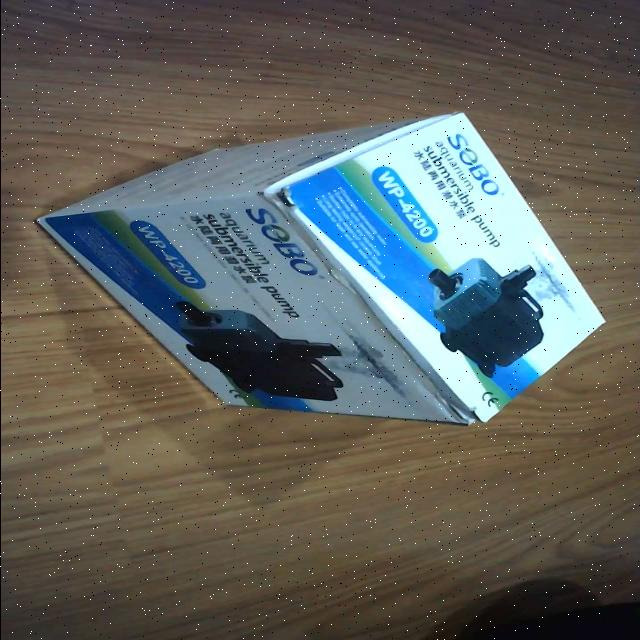SOBO_WP_4200: (32, 108, 614, 432)
